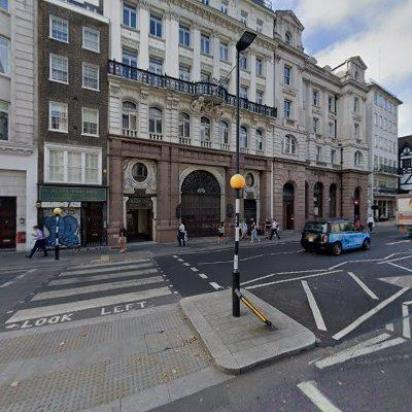moving-car: (300, 216, 374, 256)
moving-heavy-truck: (394, 191, 412, 240)
